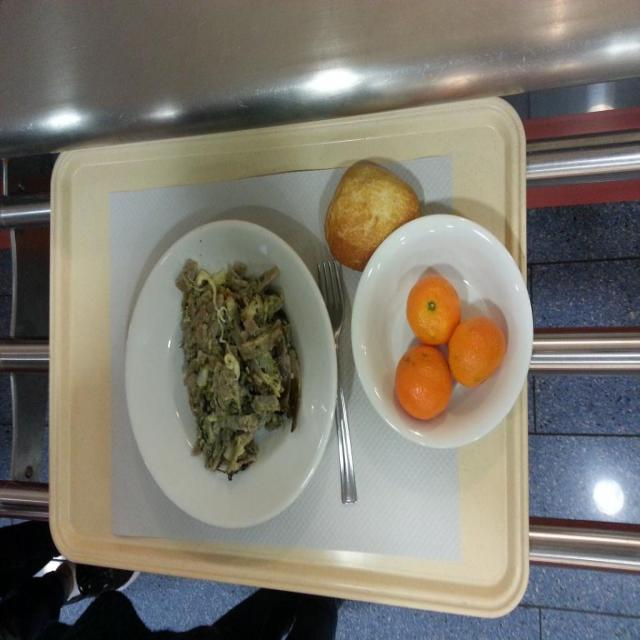plate: (124, 216, 338, 529), (324, 156, 424, 274), (393, 347, 452, 418), (403, 272, 462, 342), (449, 314, 508, 384)
